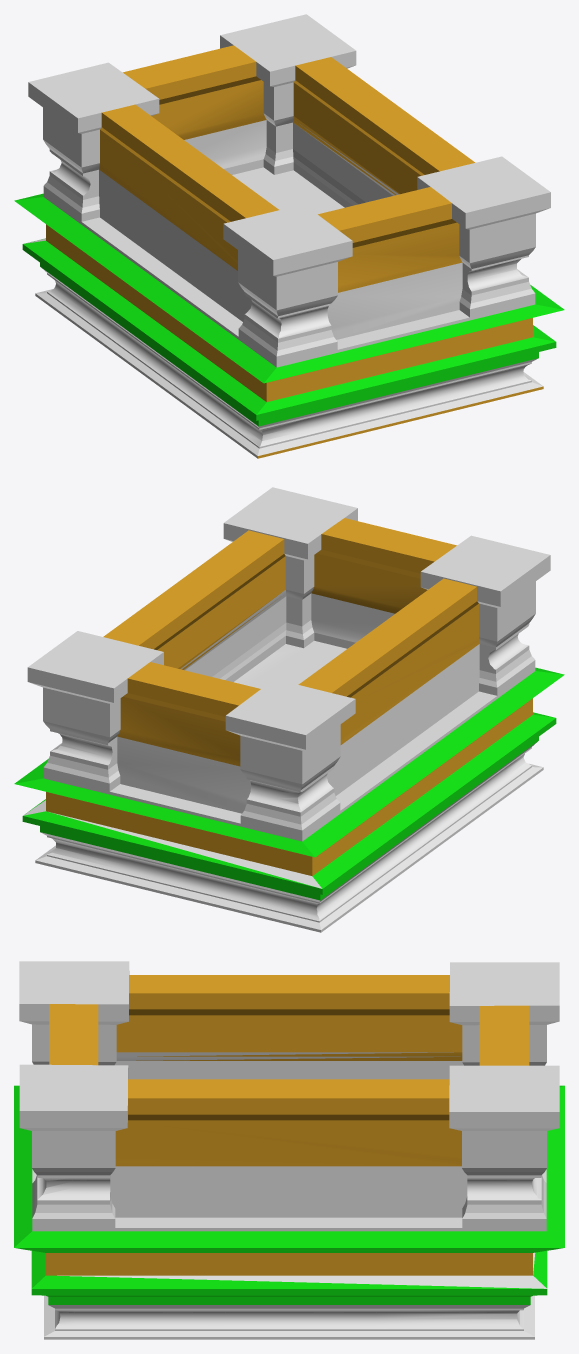
File: Toit_Temple2.fbx
3 renders of one model, top to bottom at view 1: azimuth 30°, elevation 25°; view 2: azimuth 150°, elevation 25°; view 3: azimuth 270°, elevation 25°, orthographic. The views are drawn at different scales.
Visible parts, largest first — view 1: toi; view 2: toi; view 3: toi.
Boxes of the visible parts, x1,y1,x2,y2 form: toi: (14, 14, 564, 458); toi: (14, 487, 564, 932); toi: (14, 961, 564, 1339).
Size of the model in its own units: 18832 by 12288 by 27032.
